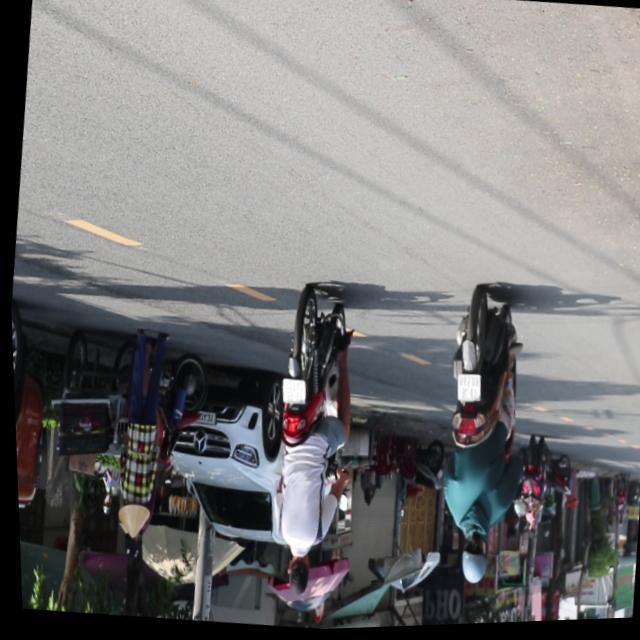helmet: (451, 534, 486, 590)
licenseplate: (247, 283, 369, 612), (419, 288, 537, 596)
motorcyclist: (277, 553, 307, 603)
nohelmet: (452, 376, 479, 407), (277, 380, 304, 407)
